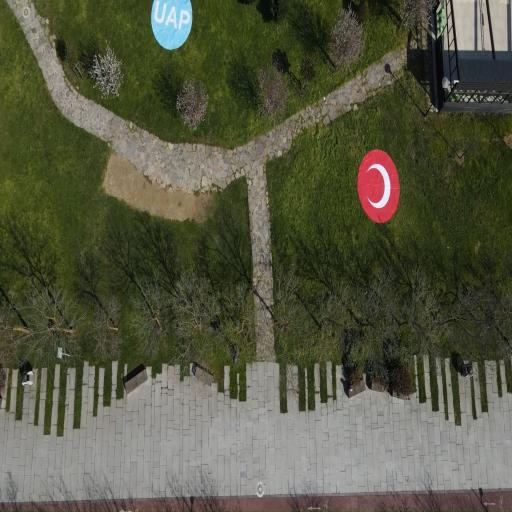UAP: (358, 149, 399, 223)
car: (151, 0, 192, 49)
